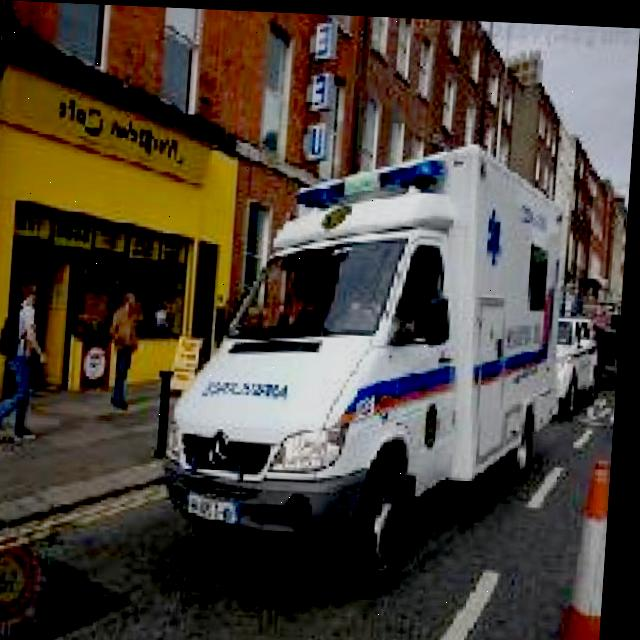emergency: (162, 129, 582, 596)
